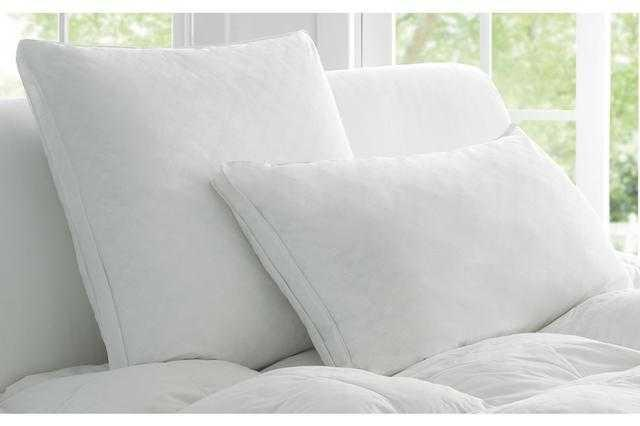pillow: (14, 28, 354, 370), (208, 122, 636, 376)
